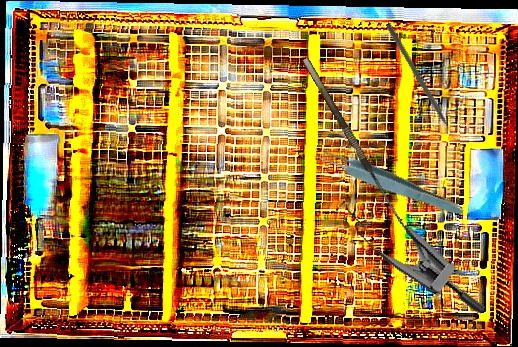Hook Surgical: (302, 52, 411, 224)
Pusher: (384, 23, 459, 144)
Speculum: (321, 163, 517, 317)
Tissue Forceps: (310, 141, 468, 222)
